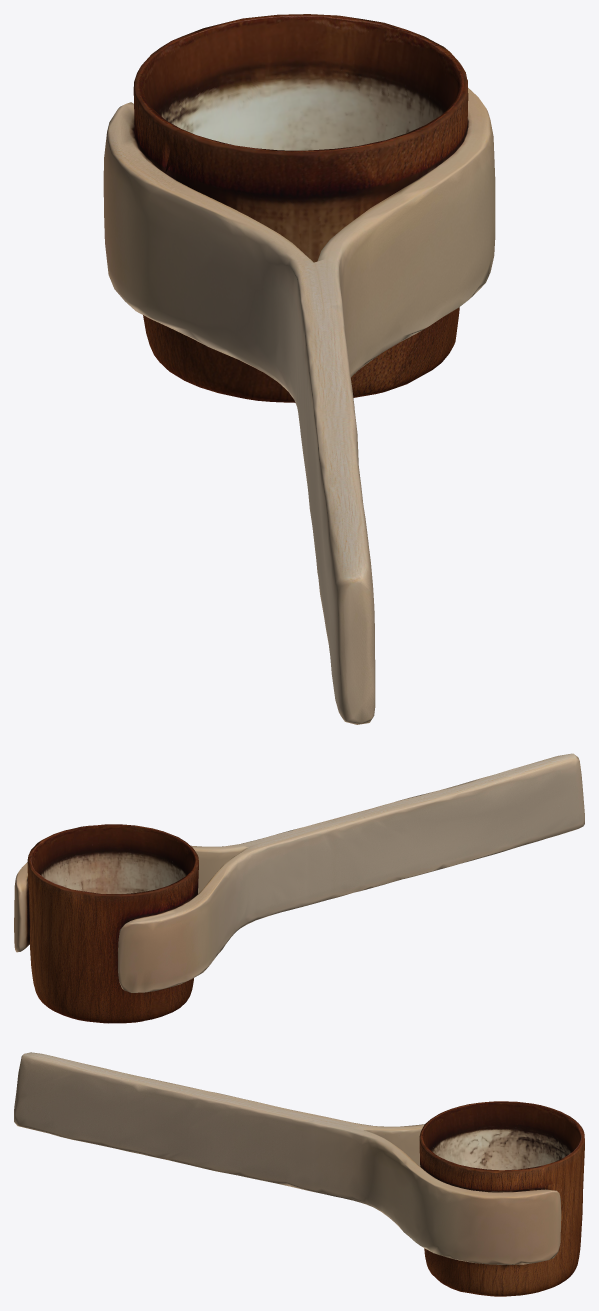
The model's file is spiseredskap_09.glb.
3 views of the same model, one above another, from view 1: azimuth 30°, elevation 25°; view 2: azimuth 150°, elevation 25°; view 3: azimuth 270°, elevation 25° (orthographic). The views are drawn at different scales.
Parts seen in each view (by area): view 1: tripo_node_272cf2f4-0dfd-4b08-865e-be0ec81a42d3; view 2: tripo_node_272cf2f4-0dfd-4b08-865e-be0ec81a42d3; view 3: tripo_node_272cf2f4-0dfd-4b08-865e-be0ec81a42d3.
Part boxes in pixels (x1,y1,x2,y2): tripo_node_272cf2f4-0dfd-4b08-865e-be0ec81a42d3: (103,14,495,724); tripo_node_272cf2f4-0dfd-4b08-865e-be0ec81a42d3: (14,753,584,1023); tripo_node_272cf2f4-0dfd-4b08-865e-be0ec81a42d3: (14,1052,584,1296).
Size of the model in its own units: 0.6032 by 0.2466 by 0.9798.
1 material, 1 textured.
